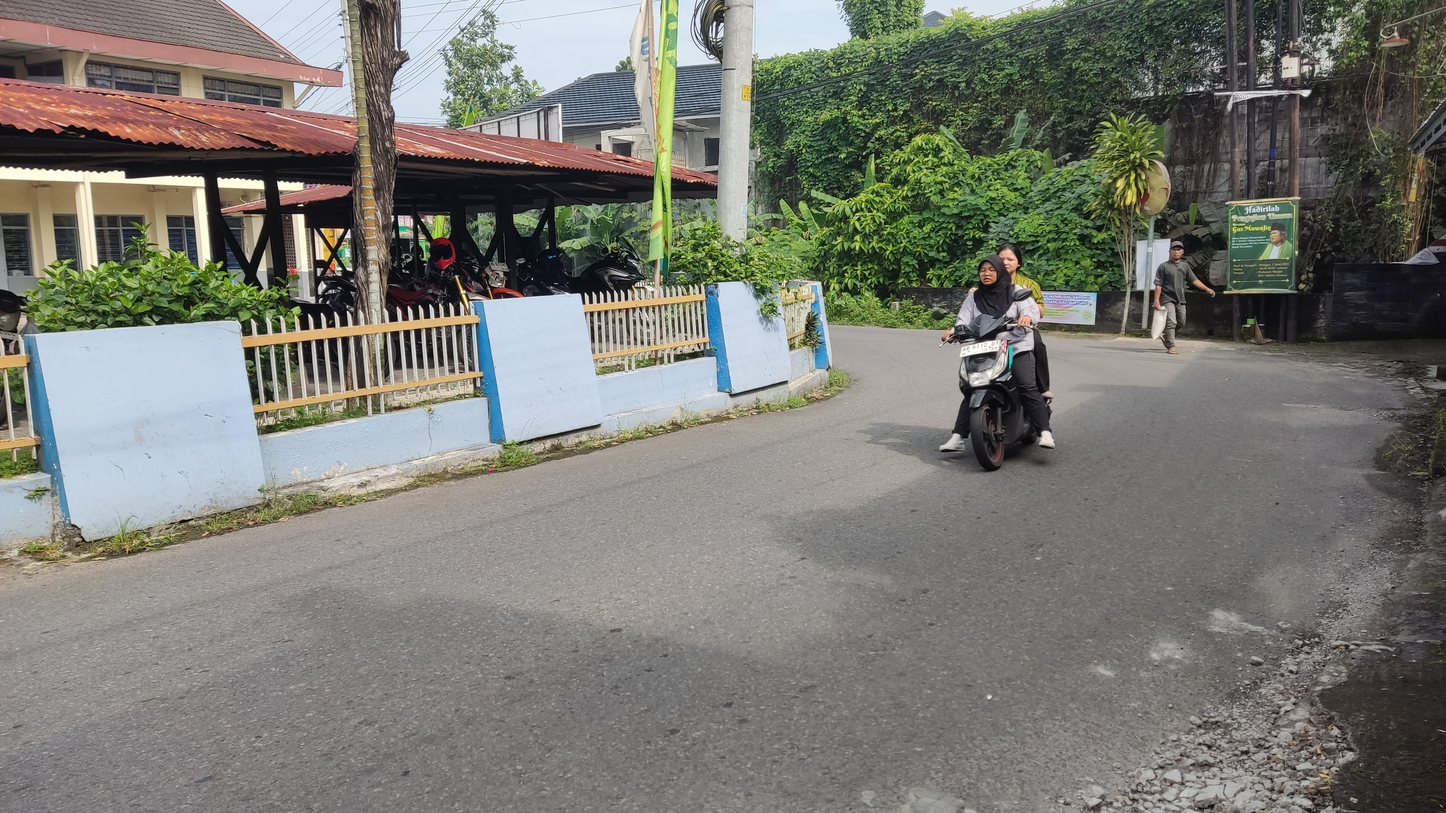nohelm: (974, 253, 1007, 290), (997, 240, 1022, 275)
riding: (936, 237, 1070, 473)
